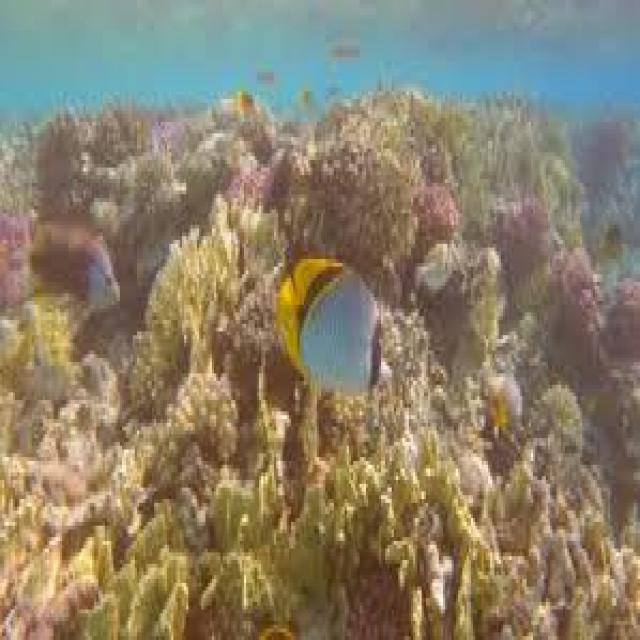ButterflyFish: (266, 250, 404, 413)
